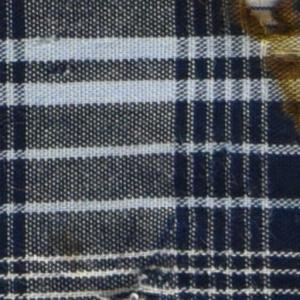Damage: (95, 210, 180, 300), (243, 2, 300, 118), (44, 60, 84, 80)
Oil Stain: (229, 1, 300, 141)
